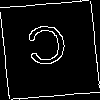C: (24, 25, 70, 74)
